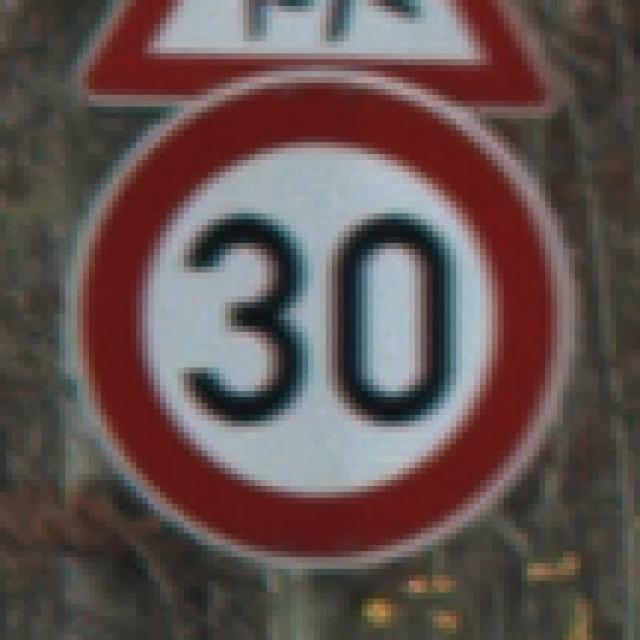Speed Limit -30-: (50, 50, 584, 584)
